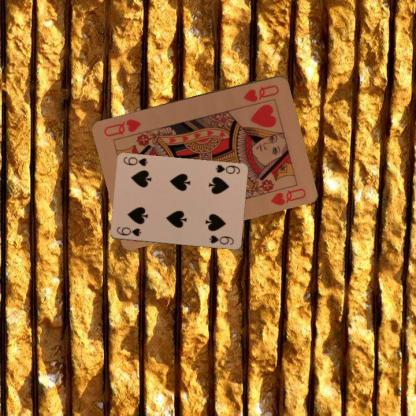6s: (114, 224, 142, 238), (213, 162, 241, 176)
Qh: (240, 82, 281, 103)
